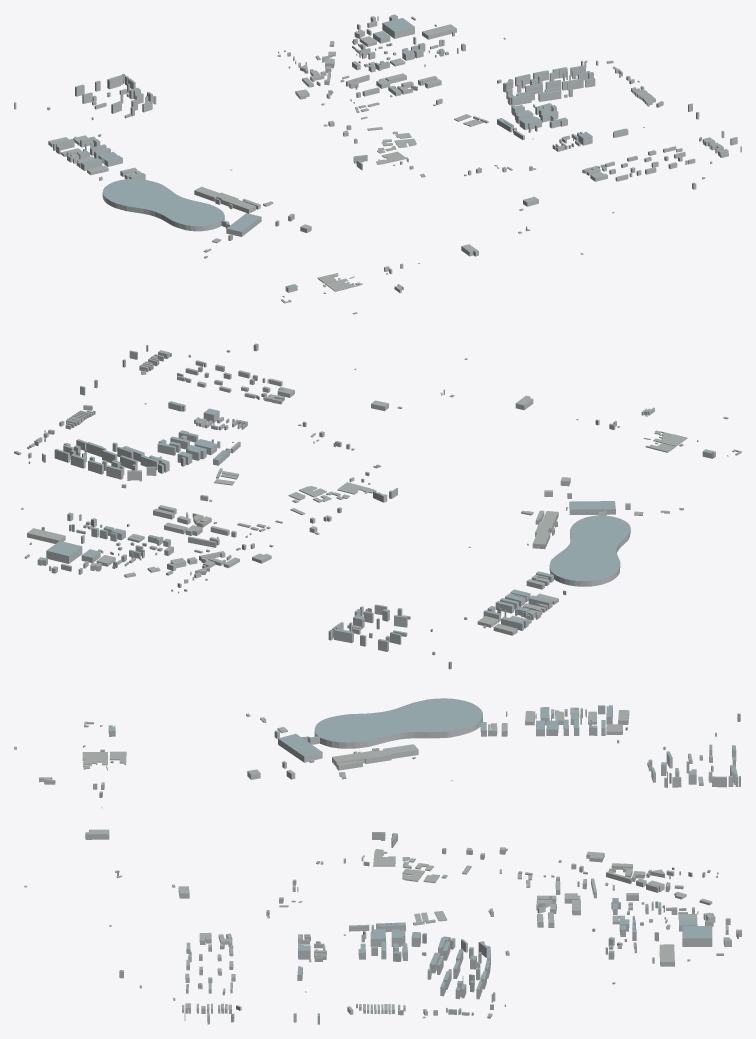
The model's file is far.glb.
3 renders of one model, top to bottom at view 1: azimuth 30°, elevation 25°; view 2: azimuth 150°, elevation 25°; view 3: azimuth 270°, elevation 25°, orthographic. The views are drawn at different scales.
Bounding box in the file's own units: 2162 × 35.2 × 2078.
